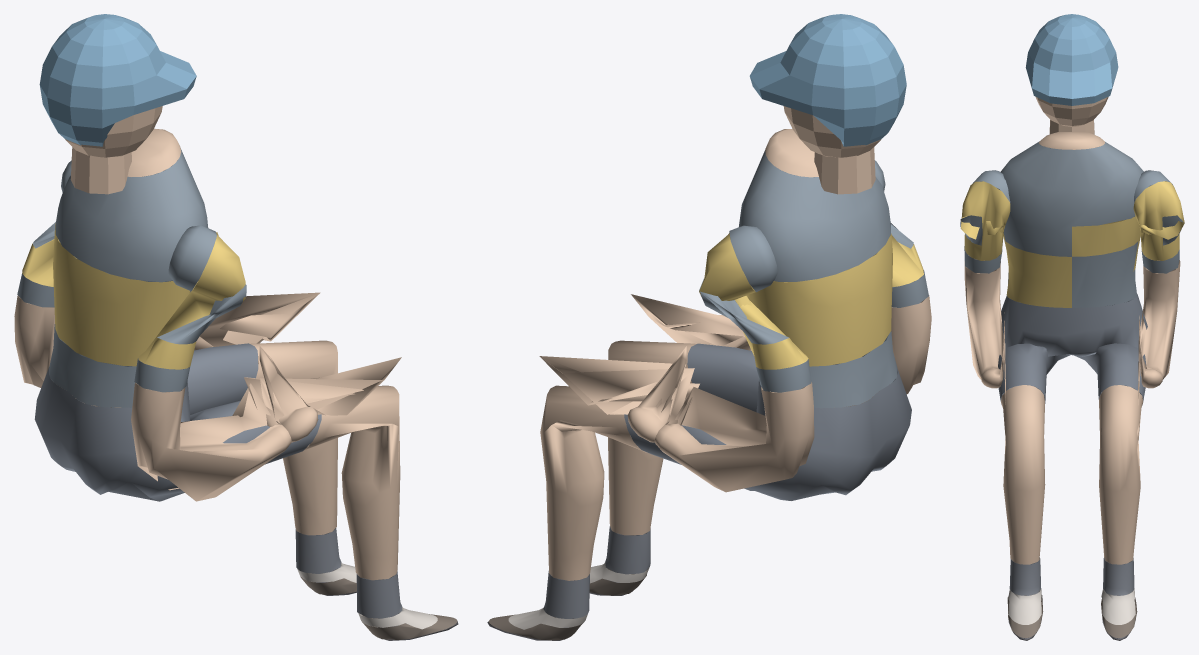
The model's file is rambla_seated_2.glb.
3 renders of one model, left to right at view 1: azimuth 30°, elevation 25°; view 2: azimuth 150°, elevation 25°; view 3: azimuth 270°, elevation 25°, orthographic. The views are drawn at different scales.
Parts seen in each view (by area): view 1: rider_torso; view 2: rider_torso; view 3: rider_torso.
Boxes of the visible parts, x1,y1,x2,y2 form: rider_torso: (14, 14, 458, 640); rider_torso: (487, 14, 931, 640); rider_torso: (960, 14, 1184, 640).
Size of the model in its own units: 0.7582 by 1.25 by 0.5084.
